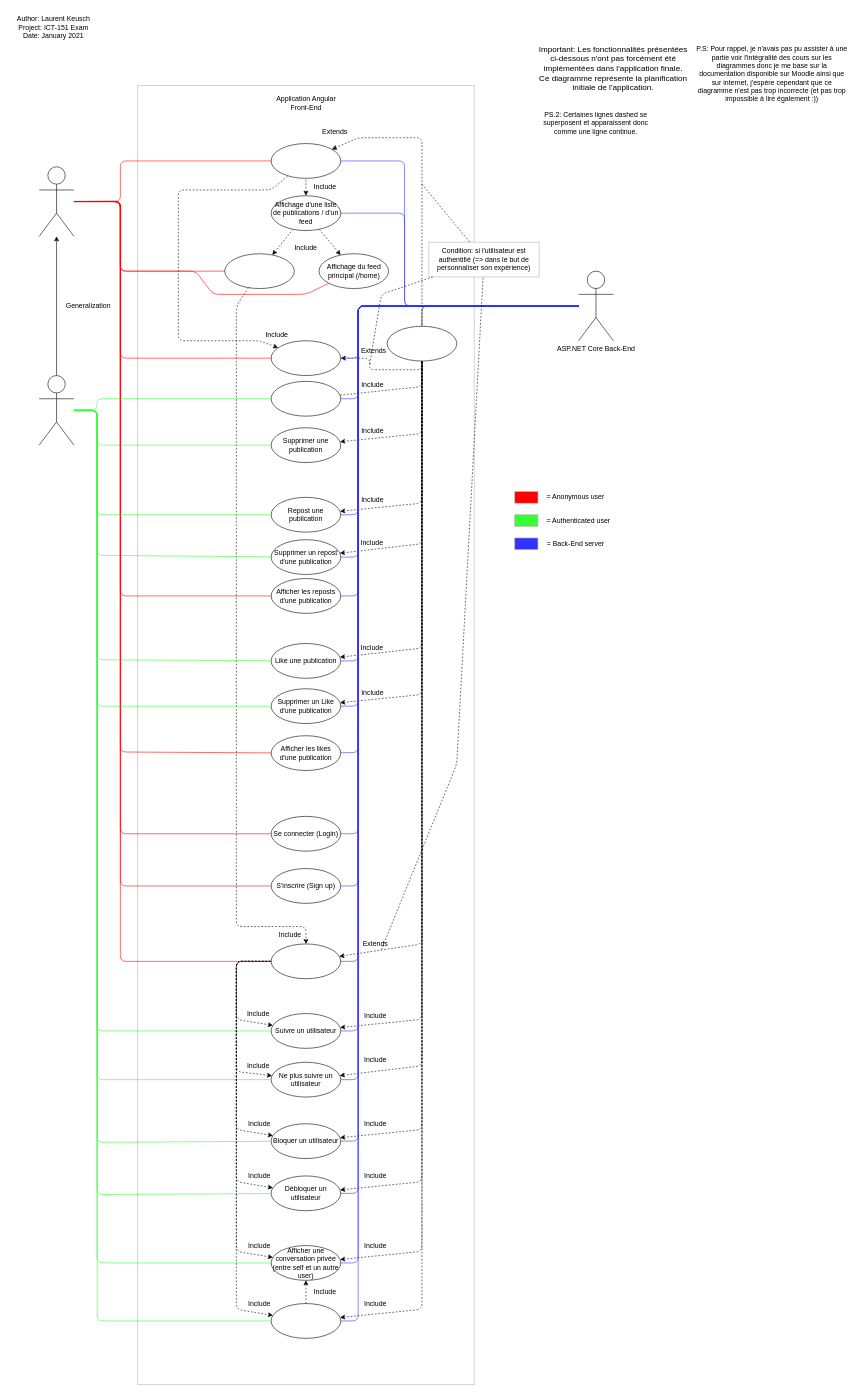
This 859x1395 diagram has some shape labels left out. The box of each missing label's shape, as (x1, y1, x2, y2) in pixels:
Affichage d'un feed utilisateur (/u): (224, 253, 294, 289)
Affichage d'une publication: (271, 143, 341, 178)
Afficher les réponses à une publication: (271, 340, 341, 376)
Afficher un utilisateur: (271, 943, 341, 979)
Anonymous User: (39, 166, 74, 236)
Authenticated User: (39, 375, 74, 445)
Créer une publication: (271, 381, 341, 416)
Envoyer un message privé: (271, 1303, 341, 1338)
User Authentication avec Session Token: (387, 326, 457, 361)
